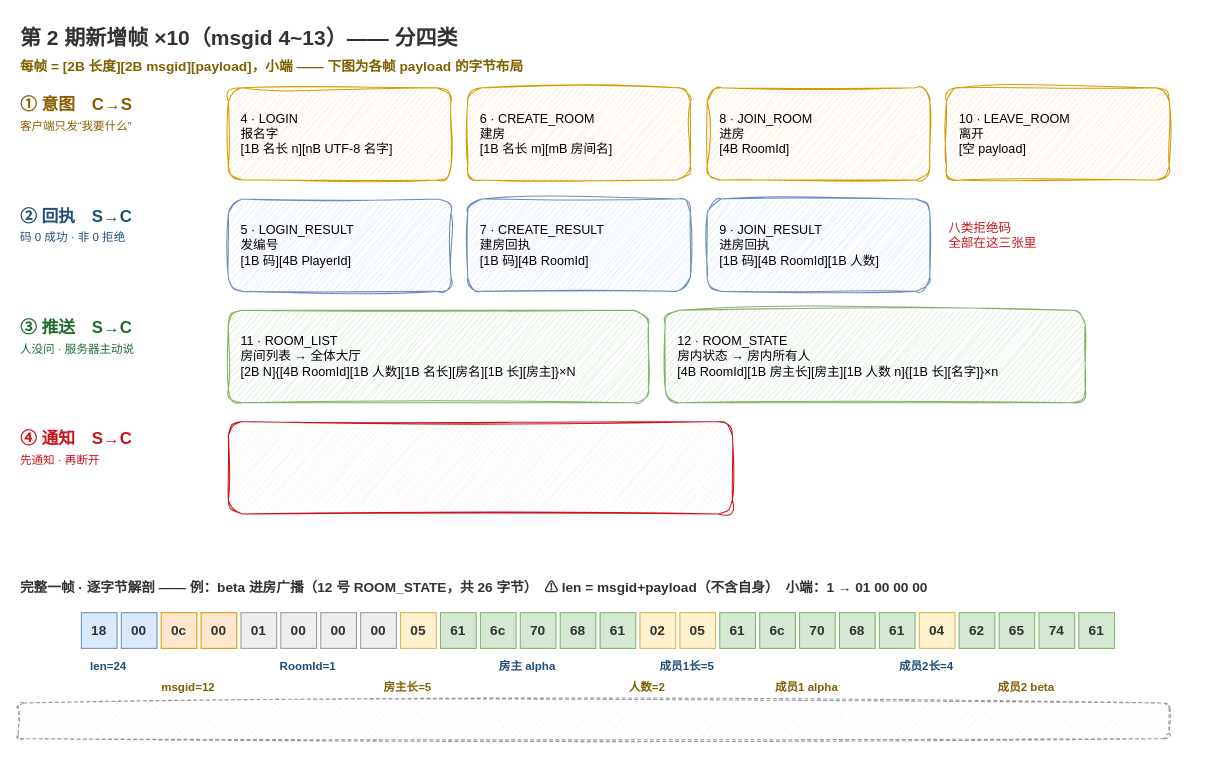
This 1223x757 diagram has some shape labels left out. Each missing label, with the centre of its shape:
"13 · KICKED 踢出通知 [1B 原因码]：1 顶号 / 2 登录超时 / 3 服务器关闭" belongs at [479,467].
"第 1 期的 1~3（WELCOME / HEARTBEAT / HEARTBEAT_ACK）：一个字节没动——契约只增不改" belongs at [593,720].
